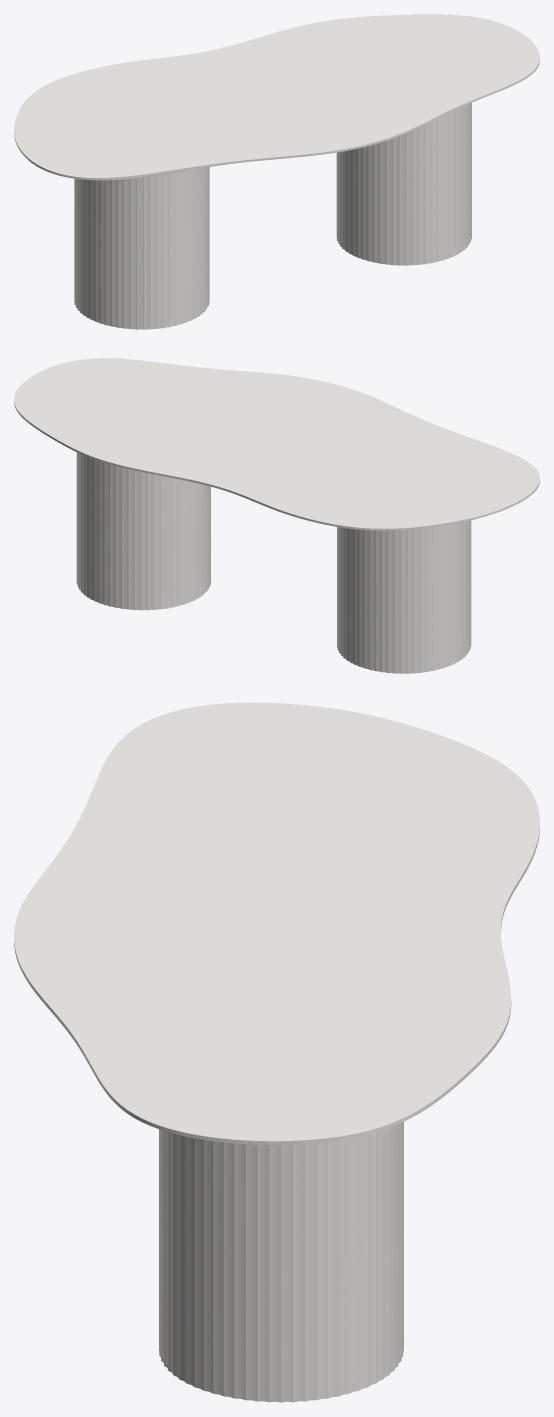
The model's file is purewhite_toplast_facet_ripplesecond.glb.
3 views of the same model, one above another, from view 1: azimuth 30°, elevation 25°; view 2: azimuth 150°, elevation 25°; view 3: azimuth 270°, elevation 25° (orthographic). The views are drawn at different scales.
Visible parts, largest first — view 1: facet_toplast, ripplesecond; view 2: facet_toplast, ripplesecond; view 3: facet_toplast, ripplesecond.
Part boxes in pixels (x1=…): facet_toplast: x1=14, y1=14, x2=539, y2=180; ripplesecond: x1=74, y1=103, x2=471, y2=329; facet_toplast: x1=14, y1=358, x2=539, y2=530; ripplesecond: x1=76, y1=452, x2=471, y2=673; facet_toplast: x1=14, y1=702, x2=539, y2=1144; ripplesecond: x1=159, y1=1122, x2=403, y2=1402.
Bounding box in the file's own units: 7.5 × 2.5 × 3.8.
1 material, 1 textured.
